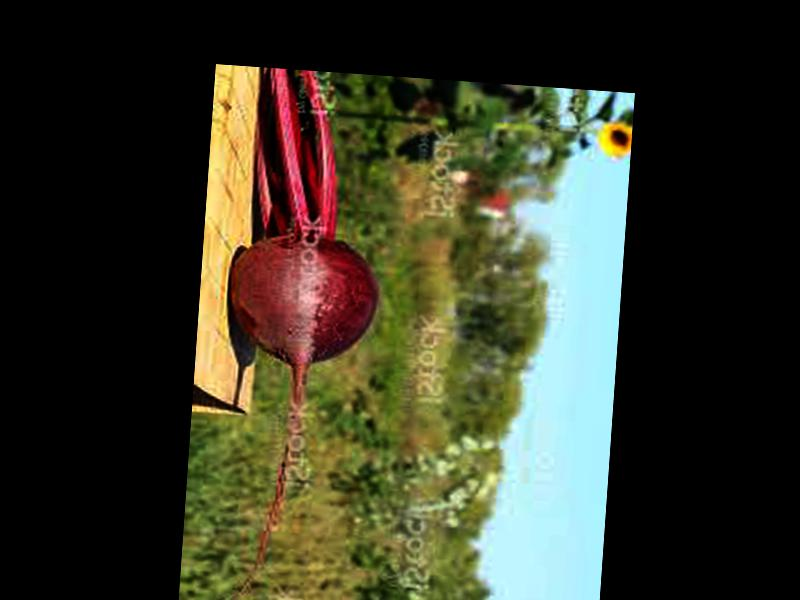Beet: (207, 65, 391, 600)
